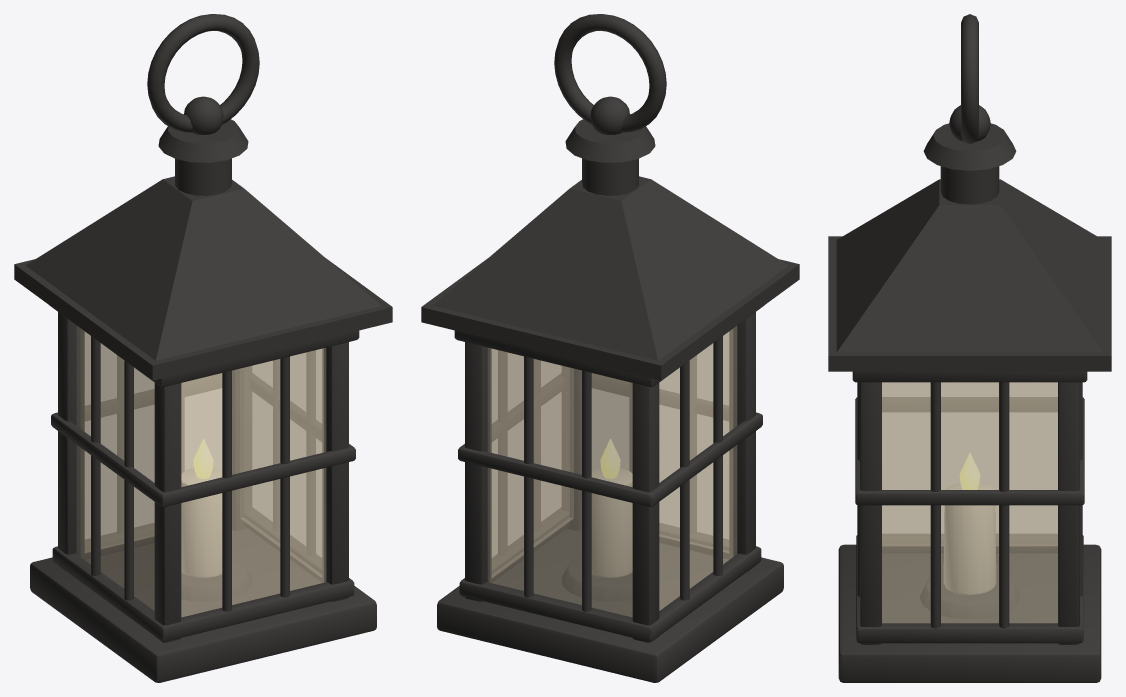
Rendered from iron-lantern_final.glb.
The picture shows the model from 3 angles, left to right: view 1: azimuth 30°, elevation 25°; view 2: azimuth 150°, elevation 25°; view 3: azimuth 270°, elevation 25°; orthographic projection. The views are drawn at different scales.
Visible parts, largest first — view 1: SM_IronLantern_Roof, SM_IronLantern_Glass, SM_IronLantern_Posts, SM_IronLantern_Base, SM_IronLantern_Bands, SM_IronLantern_CageBars, SM_IronLantern_Ring, SM_IronLantern_Candle, SM_IronLantern_CandleDish; view 2: SM_IronLantern_Roof, SM_IronLantern_Glass, SM_IronLantern_Posts, SM_IronLantern_Base, SM_IronLantern_Bands, SM_IronLantern_CageBars, SM_IronLantern_Ring, SM_IronLantern_Candle, SM_IronLantern_CandleDish; view 3: SM_IronLantern_Roof, SM_IronLantern_Glass, SM_IronLantern_Base, SM_IronLantern_Bands, SM_IronLantern_Posts, SM_IronLantern_CageBars, SM_IronLantern_Candle, SM_IronLantern_Ring, SM_IronLantern_CandleDish, SM_IronLantern_Flame.
Part boxes in pixels (bbox=[...]): SM_IronLantern_Roof: bbox=[14, 96, 392, 380]; SM_IronLantern_Glass: bbox=[77, 326, 325, 617]; SM_IronLantern_Posts: bbox=[58, 312, 348, 642]; SM_IronLantern_Base: bbox=[30, 529, 376, 682]; SM_IronLantern_Bands: bbox=[51, 306, 359, 641]; SM_IronLantern_CageBars: bbox=[91, 336, 315, 611]; SM_IronLantern_Ring: bbox=[147, 14, 259, 132]; SM_IronLantern_Candle: bbox=[181, 468, 221, 577]; SM_IronLantern_CandleDish: bbox=[181, 556, 251, 601]; SM_IronLantern_Roof: bbox=[421, 96, 799, 380]; SM_IronLantern_Glass: bbox=[488, 326, 736, 617]; SM_IronLantern_Posts: bbox=[465, 312, 755, 642]; SM_IronLantern_Base: bbox=[437, 529, 783, 682]; SM_IronLantern_Bands: bbox=[454, 306, 762, 641]; SM_IronLantern_CageBars: bbox=[498, 336, 722, 611]; SM_IronLantern_Ring: bbox=[554, 14, 666, 132]; SM_IronLantern_Candle: bbox=[592, 468, 632, 577]; SM_IronLantern_CandleDish: bbox=[562, 556, 632, 601]; SM_IronLantern_Roof: bbox=[828, 105, 1111, 371]; SM_IronLantern_Glass: bbox=[882, 382, 1057, 623]; SM_IronLantern_Base: bbox=[838, 544, 1101, 682]; SM_IronLantern_Bands: bbox=[852, 371, 1087, 643]; SM_IronLantern_Posts: bbox=[860, 382, 1079, 644]; SM_IronLantern_CageBars: bbox=[857, 382, 1082, 628]; SM_IronLantern_Candle: bbox=[944, 483, 995, 594]; SM_IronLantern_Ring: bbox=[961, 14, 978, 144]; SM_IronLantern_CandleDish: bbox=[920, 571, 1019, 618]; SM_IronLantern_Flame: bbox=[960, 453, 979, 489].
Bounding box in the file's own units: 0.232 × 0.5855 × 0.232.
